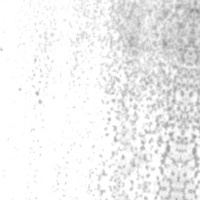pitted_surface: (85, 0, 195, 185), (19, 0, 101, 100)
